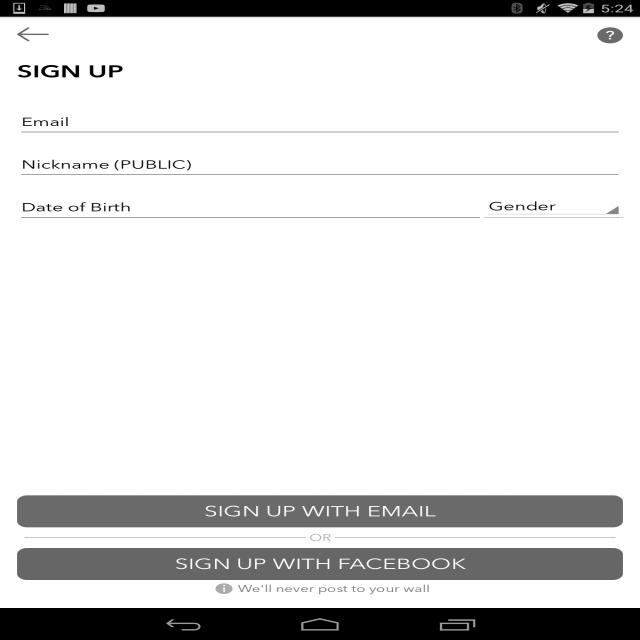Button: (17, 496, 623, 528), (17, 548, 623, 580)
EditText: (17, 109, 623, 138), (17, 152, 623, 180), (17, 194, 484, 223)
ImageView: (210, 580, 238, 597), (17, 28, 49, 42), (597, 28, 623, 44)
Spinner: (484, 196, 623, 217)
TextView: (17, 61, 124, 82), (488, 197, 606, 215), (238, 583, 430, 594), (306, 532, 335, 543)
